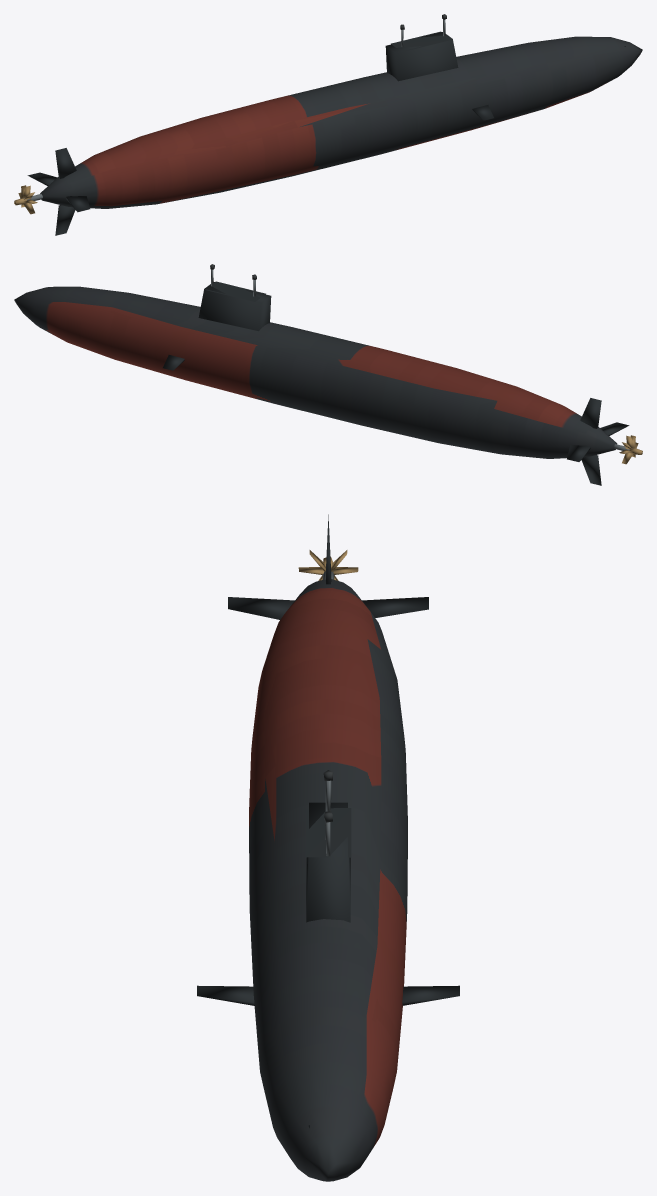
File: UK_SSN_Trafalgar_LOD3.fbx
3 renders of one model, top to bottom at view 1: azimuth 30°, elevation 25°; view 2: azimuth 150°, elevation 25°; view 3: azimuth 270°, elevation 25°, orthographic. The views are drawn at different scales.
Visible parts, largest first — view 1: UK_SSN_Trafalgar_LOD3; view 2: UK_SSN_Trafalgar_LOD3; view 3: UK_SSN_Trafalgar_LOD3.
Part boxes in pixels (<box>): UK_SSN_Trafalgar_LOD3: <box>14,14,642,235</box>; UK_SSN_Trafalgar_LOD3: <box>14,264,642,485</box>; UK_SSN_Trafalgar_LOD3: <box>197,514,459,1181</box>.
Size of the model in its own units: 89.15 by 16.16 by 17.07.
Materials: 6 (1 with a texture image).
